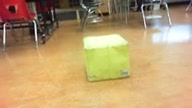cube: (83, 34, 131, 81)
